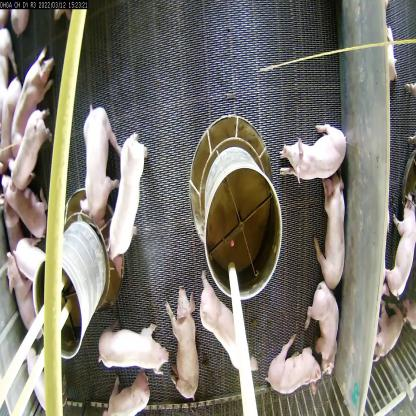Pig: (193, 261, 252, 369), (110, 128, 152, 268), (276, 113, 344, 188), (3, 51, 52, 138), (317, 177, 356, 285), (0, 249, 36, 355), (79, 112, 114, 218), (101, 319, 167, 375), (270, 324, 316, 396), (12, 105, 46, 197), (307, 276, 341, 368), (172, 290, 199, 396), (99, 376, 151, 415), (16, 229, 45, 285)
